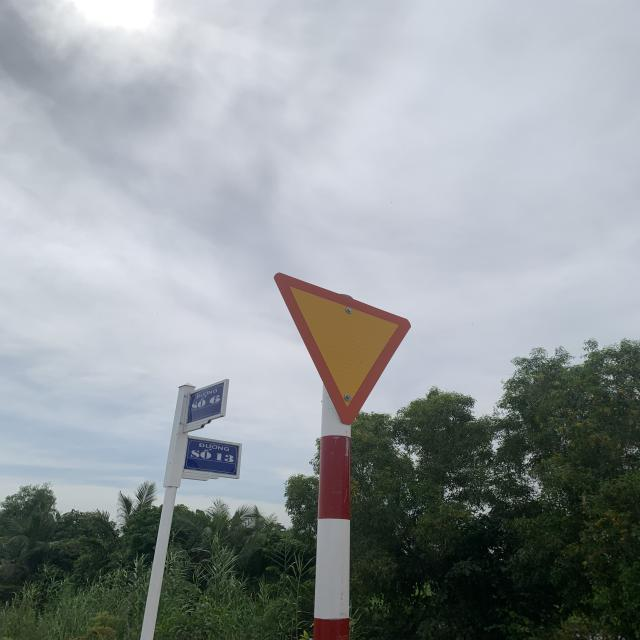Gioi_Han_Toc_Do_25: (275, 272, 413, 425)
